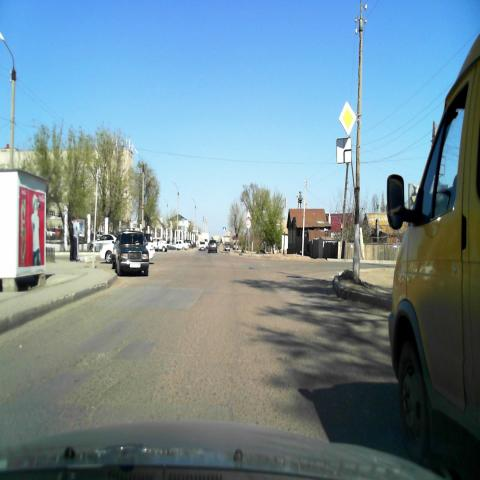8_13: (336, 138, 352, 164)
